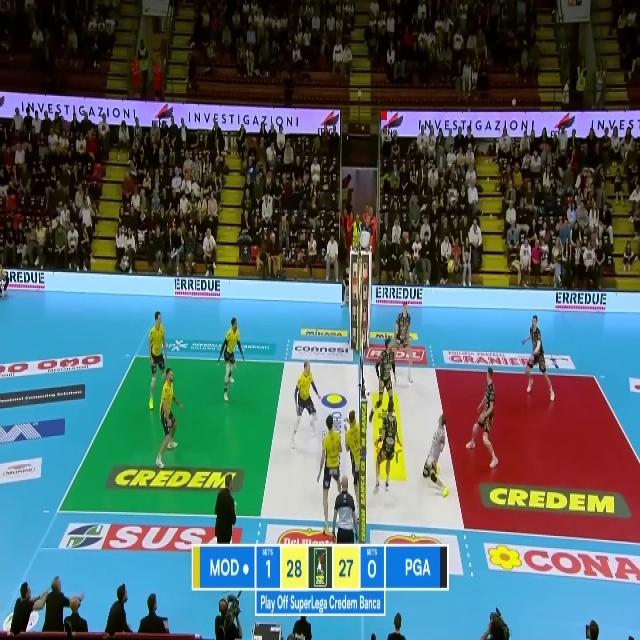volleyball court: (57, 356, 640, 544)
